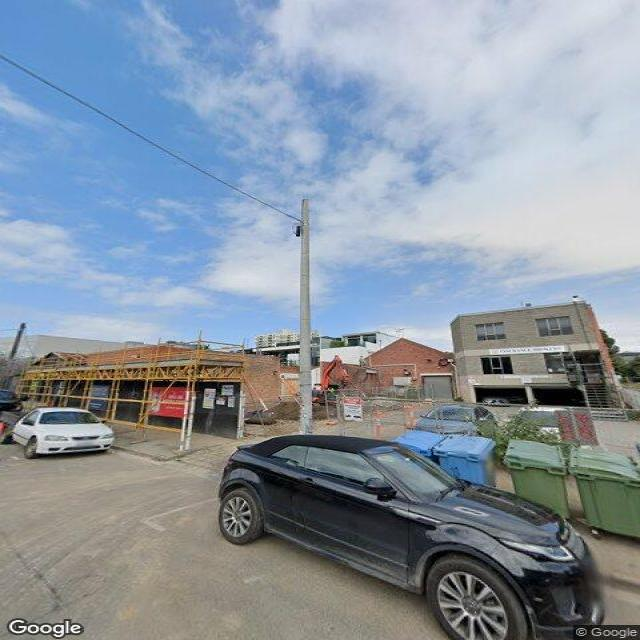concrete-pole: (296, 198, 314, 434)
